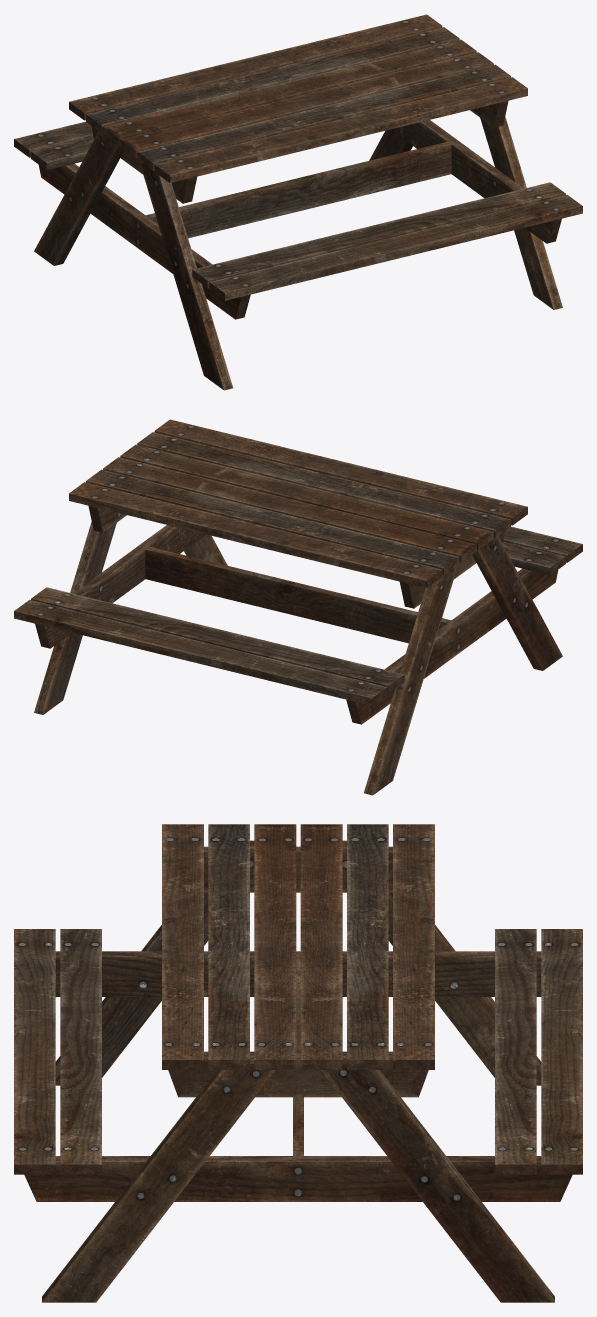
Rendered from banca_picnic.obj.
The picture shows the model from 3 angles, top to bottom: view 1: azimuth 30°, elevation 25°; view 2: azimuth 150°, elevation 25°; view 3: azimuth 270°, elevation 25°; orthographic projection. The views are drawn at different scales.
Parts seen in each view (by area): view 1: PicnicTable_Picnic_Table_001; view 2: PicnicTable_Picnic_Table_001; view 3: PicnicTable_Picnic_Table_001.
Boxes of the visible parts, box(x1,y1,x2,y2) form: PicnicTable_Picnic_Table_001: box(14, 14, 582, 390); PicnicTable_Picnic_Table_001: box(14, 419, 582, 795); PicnicTable_Picnic_Table_001: box(14, 824, 582, 1302).
Size of the model in its own units: 47.94 by 23.6 by 48.92.
1 material, 1 textured.
